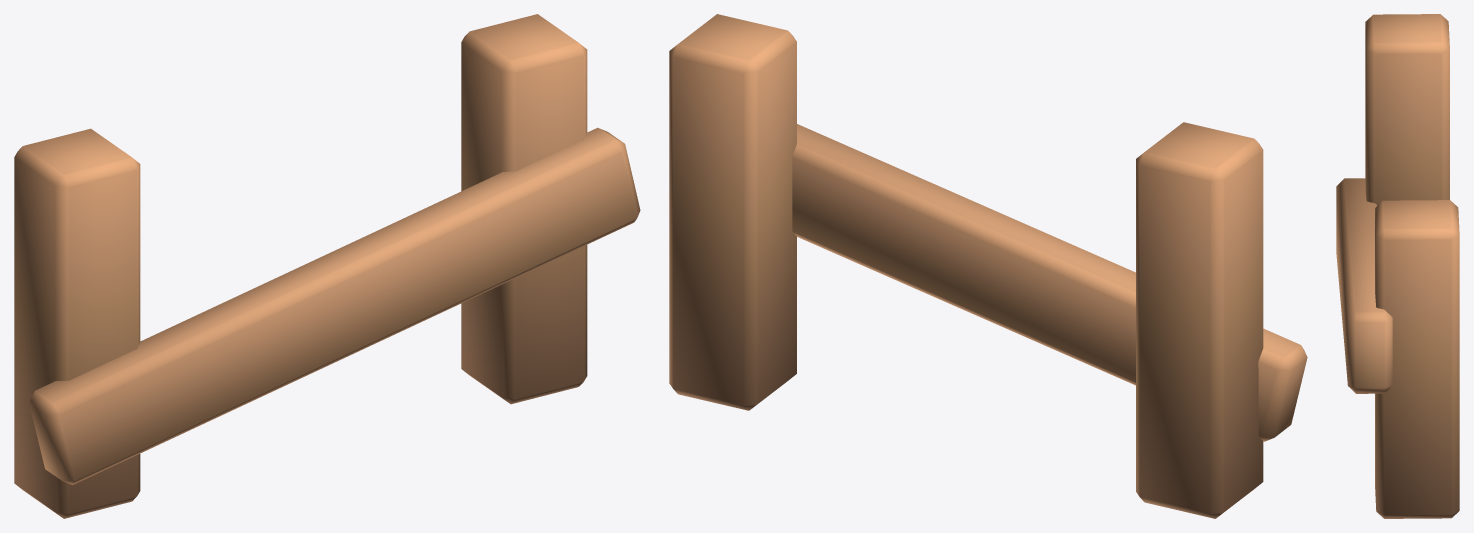
The model's file is FenceTile_2.fbx.
The picture shows the model from 3 angles, left to right: view 1: azimuth 30°, elevation 25°; view 2: azimuth 150°, elevation 25°; view 3: azimuth 270°, elevation 25°; orthographic projection. The views are drawn at different scales.
Visible parts, largest first — view 1: FenceTile_2; view 2: FenceTile_2; view 3: FenceTile_2.
Boxes of the visible parts, x1,y1,x2,y2 form: FenceTile_2: (14, 14, 640, 518); FenceTile_2: (669, 14, 1307, 518); FenceTile_2: (1336, 14, 1459, 518).
Bounding box in the file's own units: 135 × 73.59 × 28.39.
